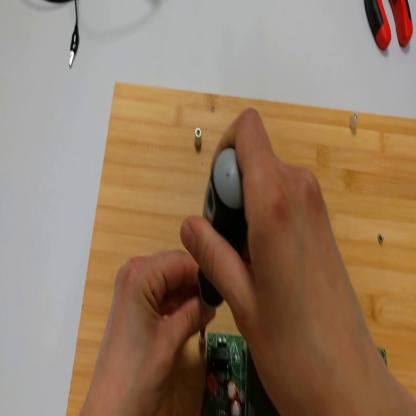hand: (183, 109, 381, 415), (82, 249, 220, 414)
low voltage board: (201, 334, 389, 415)
pliers: (364, 1, 416, 55)
screwdriver-: (199, 150, 250, 343)
working area: (68, 86, 416, 416)
